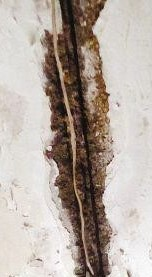Corrosion: (40, 1, 115, 277)
Exposed reinforcement: (66, 1, 104, 277)
